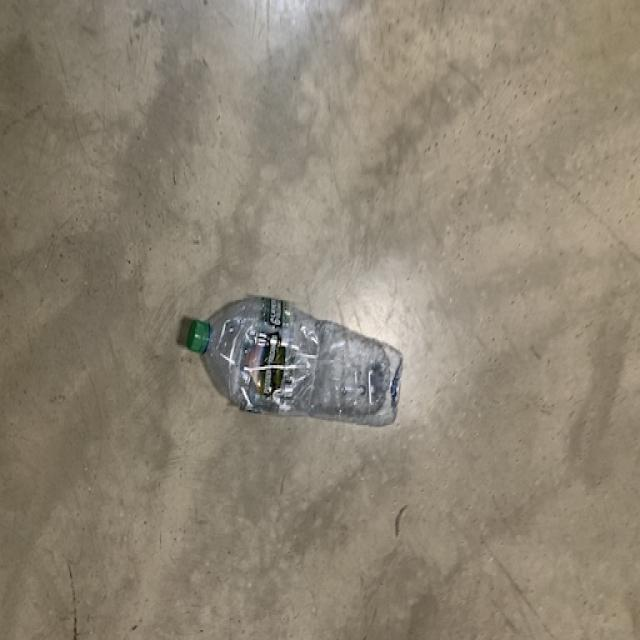litter: (184, 296, 408, 426)
